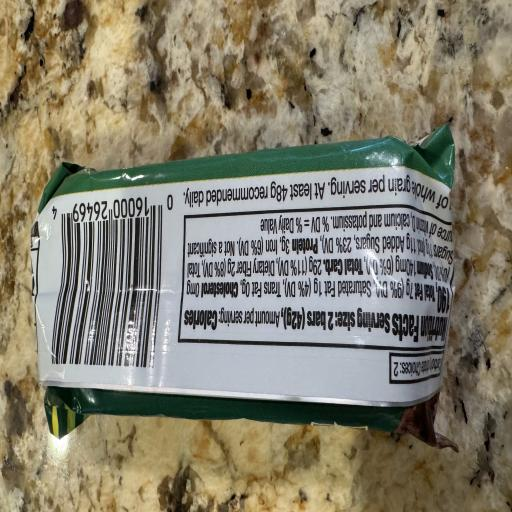granola: (32, 126, 456, 449)
